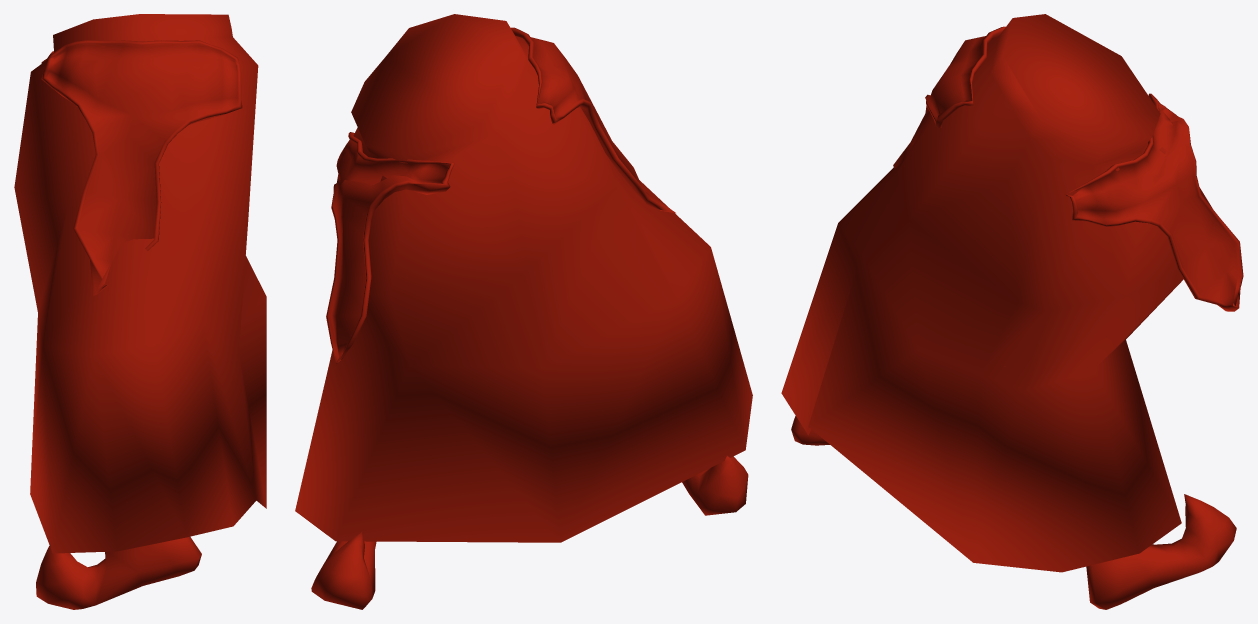
Rendered from bot_000069.obj.
3 renders of one model, left to right at view 1: azimuth 30°, elevation 25°; view 2: azimuth 150°, elevation 25°; view 3: azimuth 270°, elevation 25°, orthographic. The views are drawn at different scales.
Parts seen in each view (by area): view 1: LowPoly_Warlock.004_Plane.004; view 2: LowPoly_Warlock.004_Plane.004; view 3: LowPoly_Warlock.004_Plane.004.
Boxes of the visible parts, x1,y1,x2,y2 form: LowPoly_Warlock.004_Plane.004: (14,14,266,609); LowPoly_Warlock.004_Plane.004: (295,14,752,609); LowPoly_Warlock.004_Plane.004: (781,14,1243,609).
Bounding box in the file's own units: 0.6801 × 1.15 × 0.8883.
